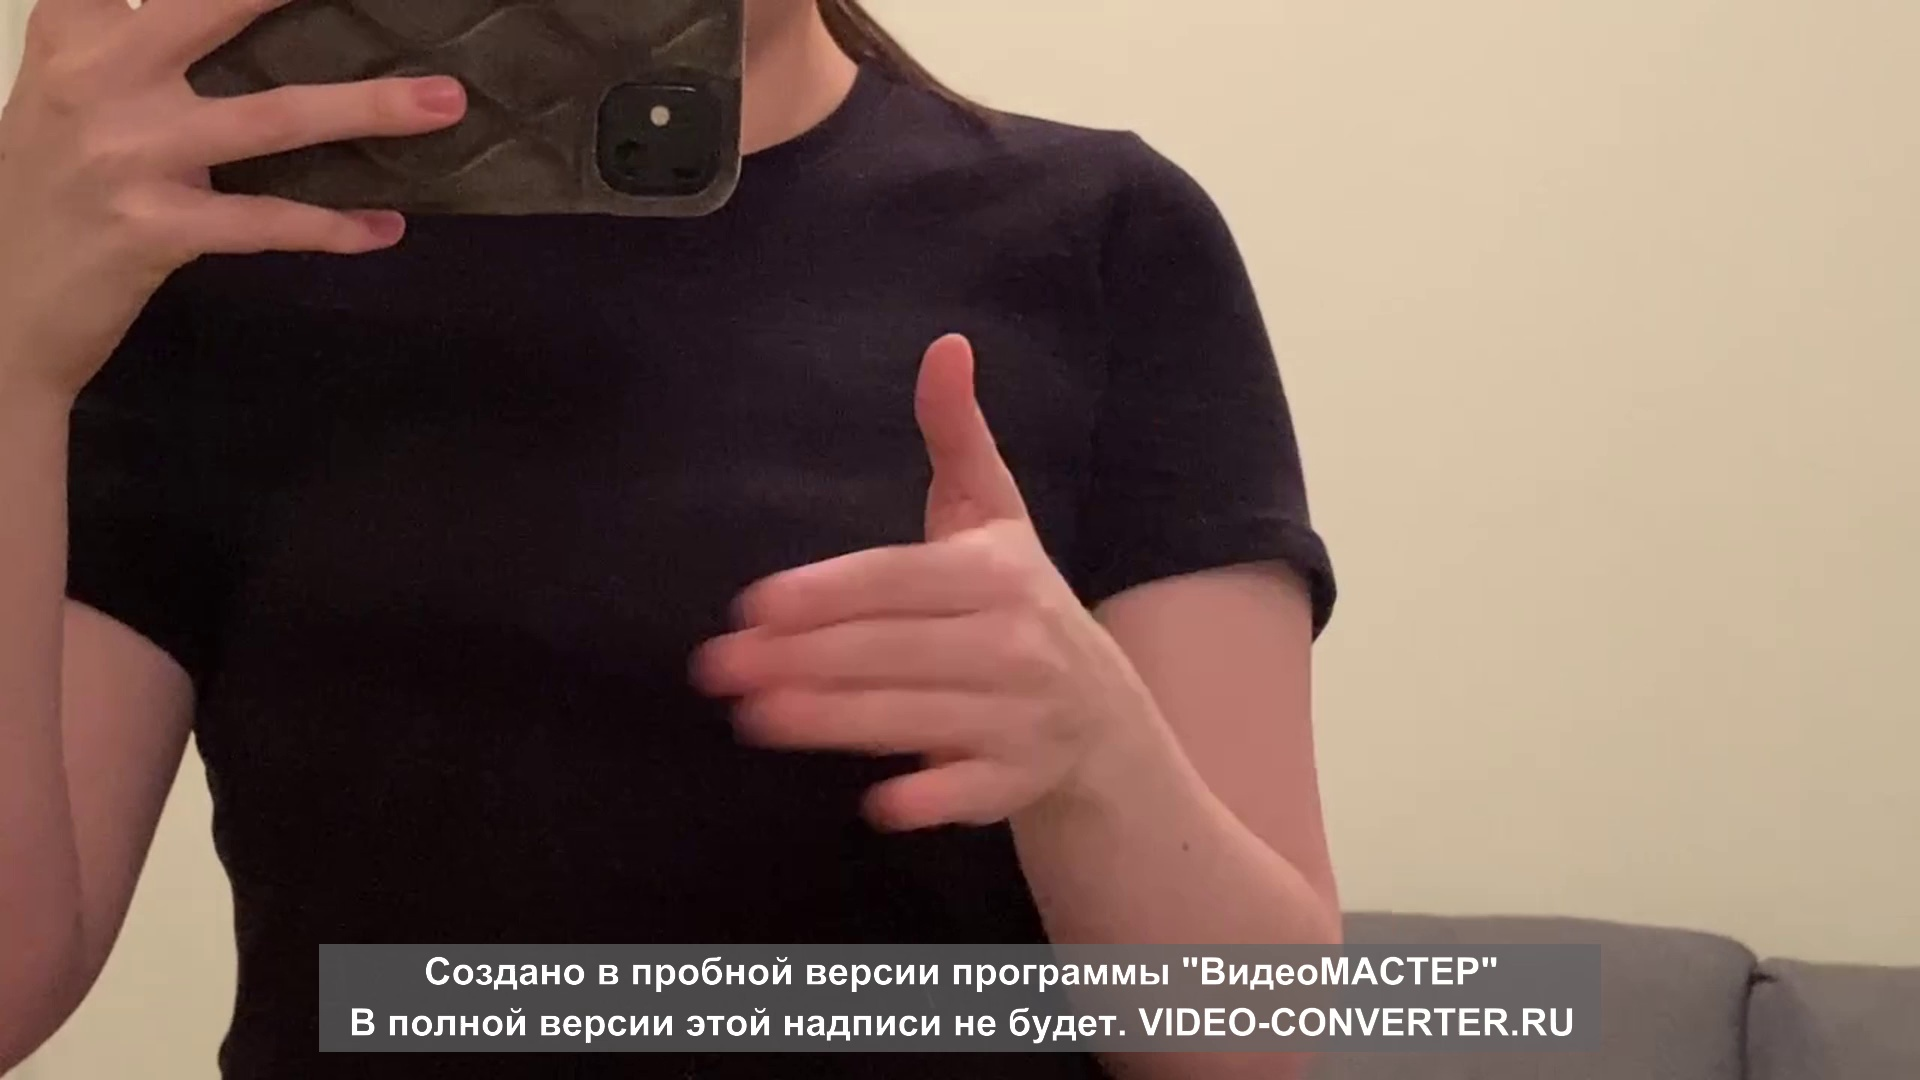Кисть: (688, 319, 1102, 828)
